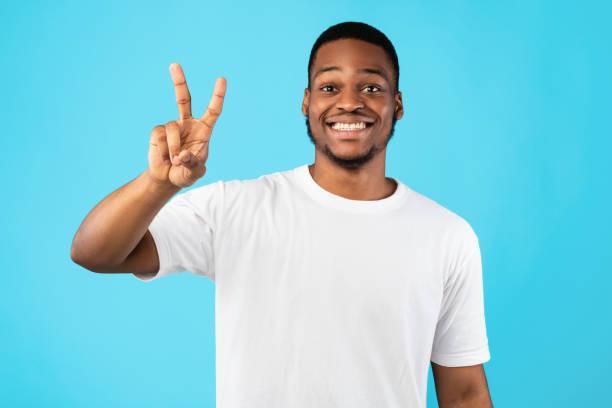peace_sign: (145, 52, 233, 194)
